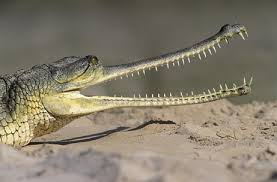Crocodile: (1, 19, 257, 147)
